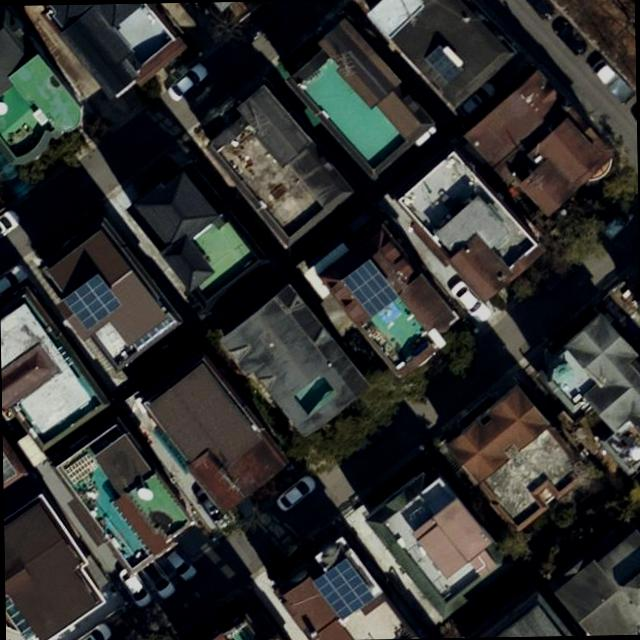solar: (310, 555, 378, 623), (338, 258, 403, 320), (60, 272, 124, 332), (422, 42, 465, 84)
